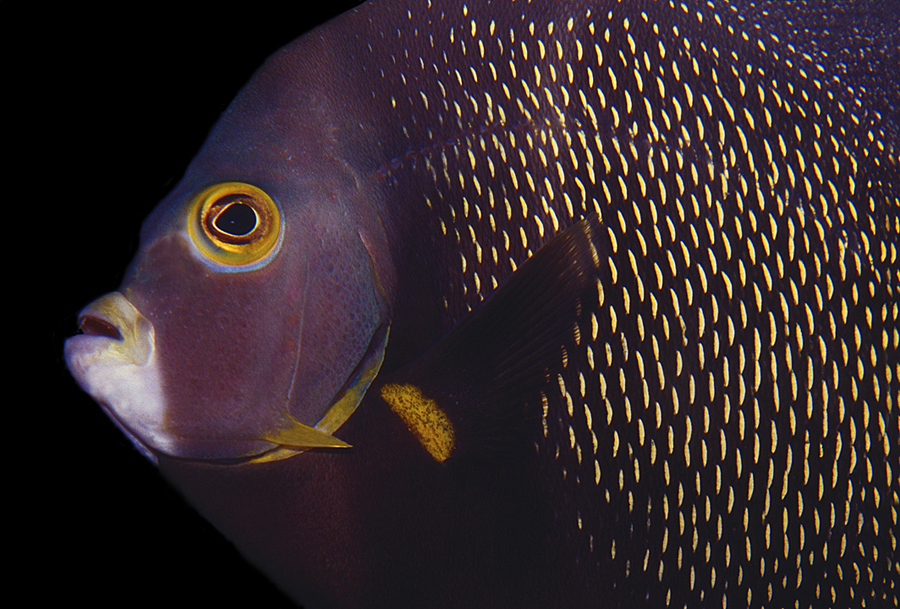Pomacanthus_paru: (42, 3, 898, 609)
